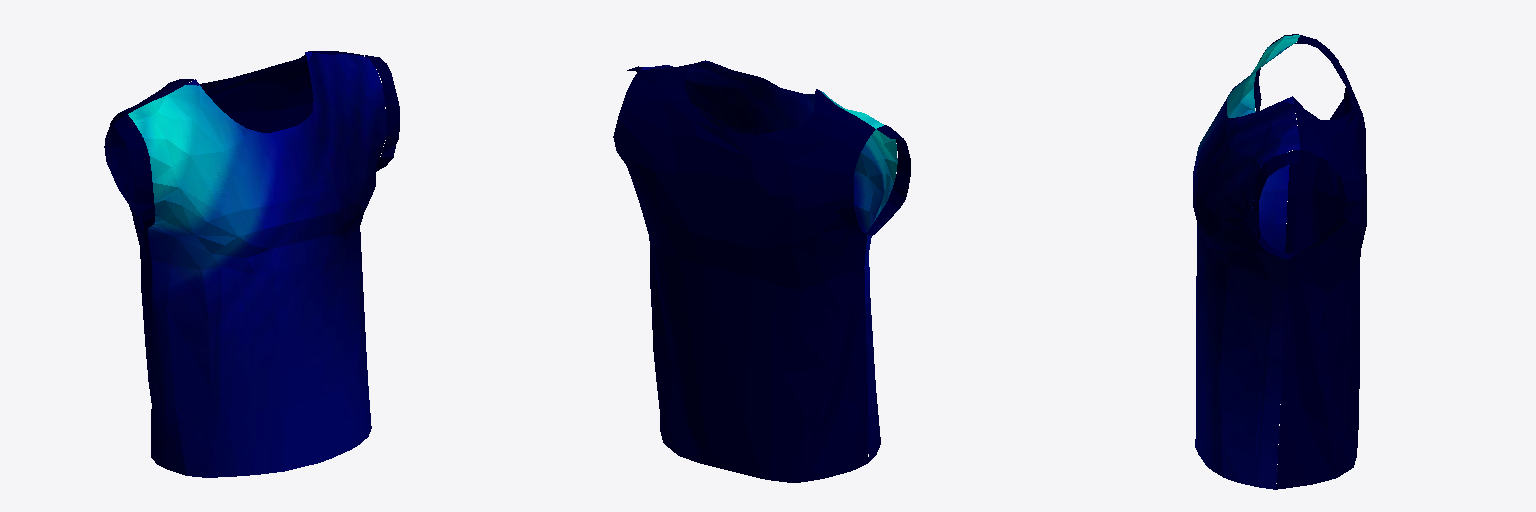
3 renders of one model, left to right at view 1: azimuth 30°, elevation 25°; view 2: azimuth 150°, elevation 25°; view 3: azimuth 270°, elevation 25°, orthographic.
Parts seen in each view (by area): view 1: T_shirt; view 2: T_shirt; view 3: T_shirt.
Boxes of the visible parts, <box> form: T_shirt: <box>104,51,399,477</box>; T_shirt: <box>613,60,910,482</box>; T_shirt: <box>1193,34,1366,489</box>.
Bounding box in the file's own units: 0.2935 × 0.3892 × 0.1639.
Materials: 2 (1 with a texture image).